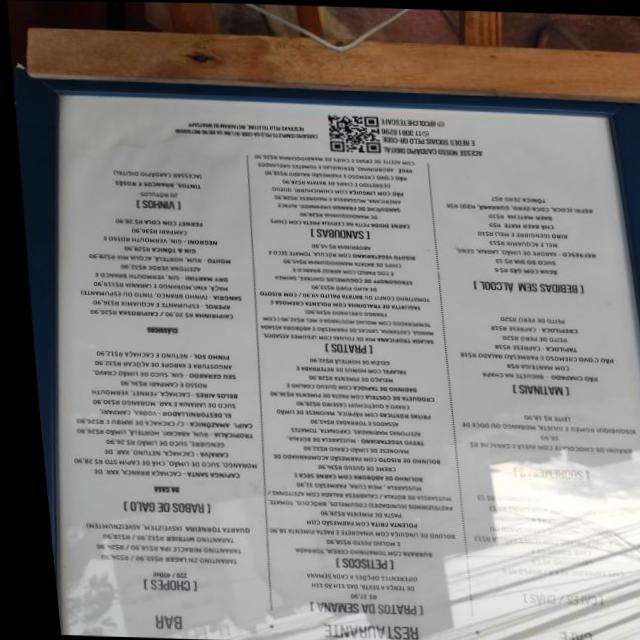qrcode: (324, 113, 379, 151)
